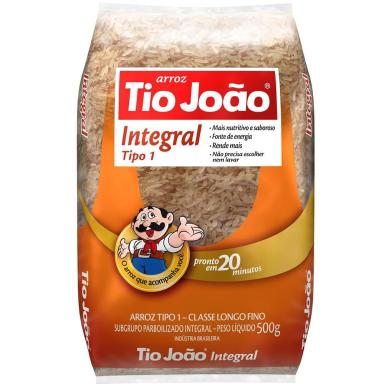rice package: (78, 5, 313, 382)
